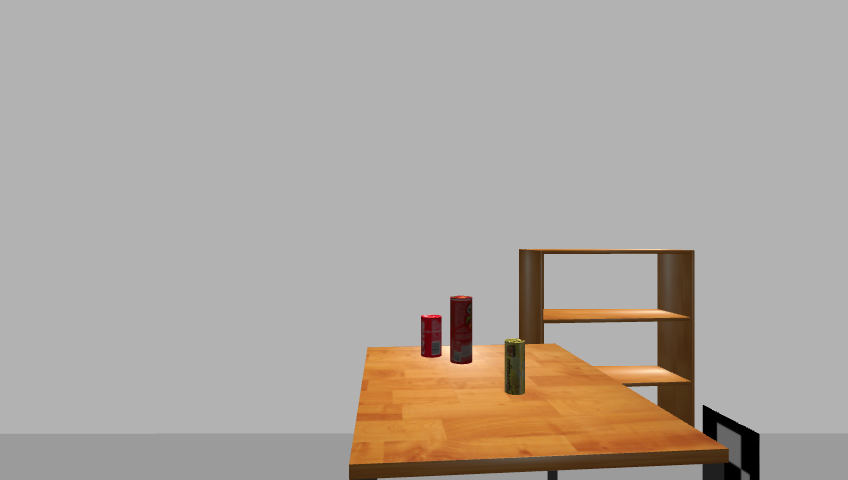aruco marker: (696, 405, 767, 479)
biscuits pack: (504, 338, 527, 396)
bookshelf: (513, 246, 705, 479)
coke can: (419, 314, 443, 359)
dinner table: (344, 342, 730, 480)
pringles can: (448, 295, 475, 365)
